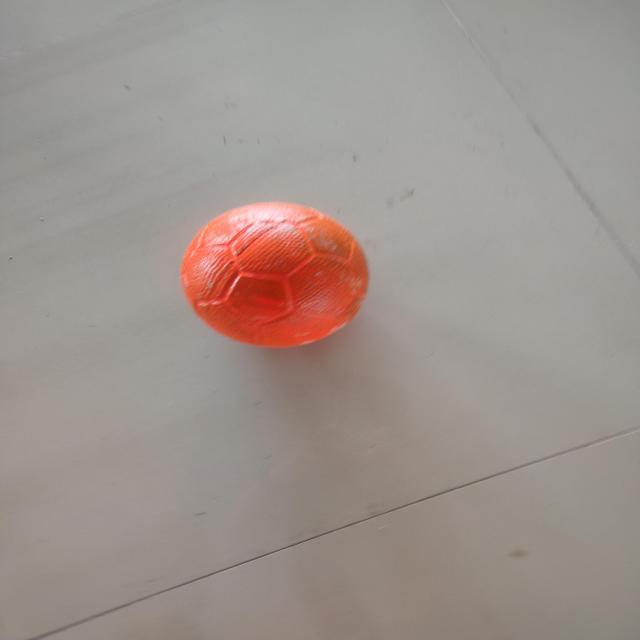bola: (172, 198, 380, 358)
